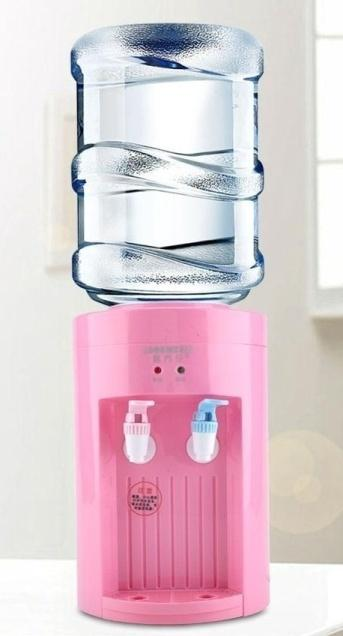Dispenser: (68, 22, 272, 624)
